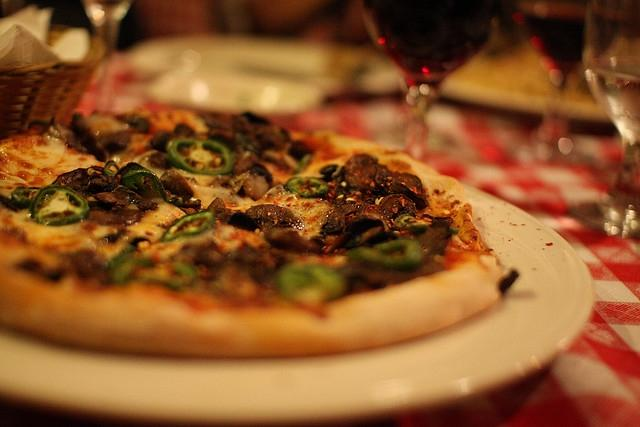mushroom: (324, 214, 392, 255), (66, 115, 132, 156), (374, 166, 429, 208), (68, 114, 110, 162), (50, 166, 114, 196), (344, 153, 388, 194), (244, 204, 304, 230), (376, 194, 418, 220), (92, 190, 129, 206)
